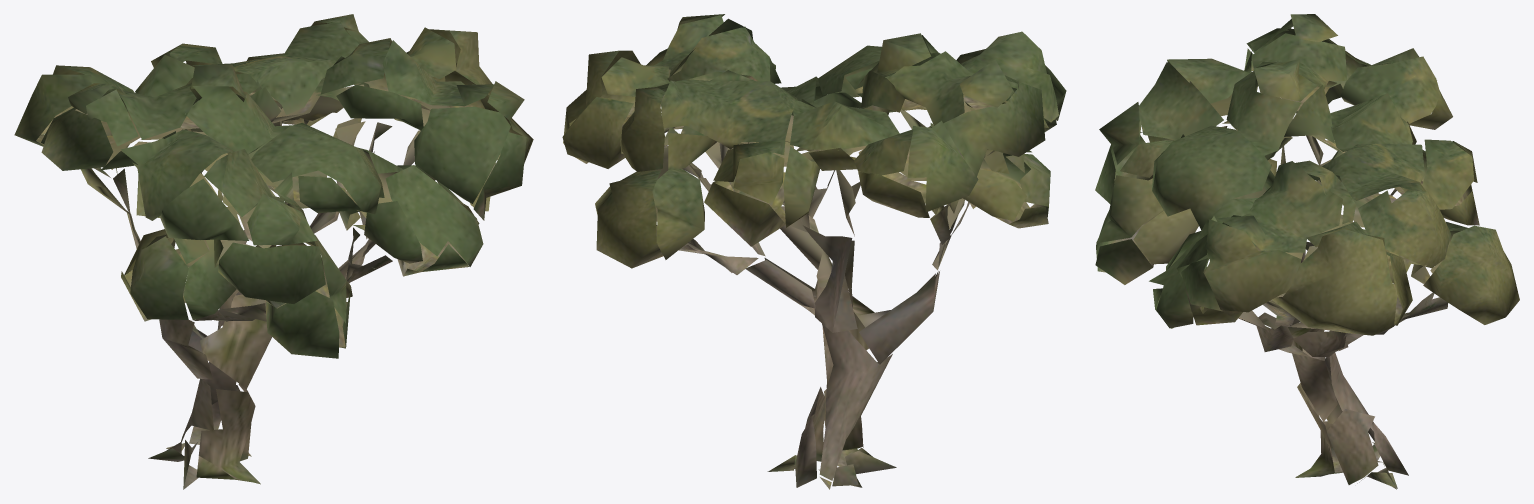
The model's file is forest_tree_canopy_01_lod2.glb.
3 views of the same model, side by side, from view 1: azimuth 30°, elevation 25°; view 2: azimuth 150°, elevation 25°; view 3: azimuth 270°, elevation 25° (orthographic). The views are drawn at different scales.
Parts seen in each view (by area): view 1: candidate_005_lod2; view 2: candidate_005_lod2; view 3: candidate_005_lod2.
Part boxes in pixels (box(x1,y1,x2,y2)): candidate_005_lod2: box(14, 14, 533, 489); candidate_005_lod2: box(562, 14, 1066, 489); candidate_005_lod2: box(1095, 14, 1519, 489).
Size of the model in its own units: 0.28 by 0.2545 by 0.2443.
1 material, 1 textured.
